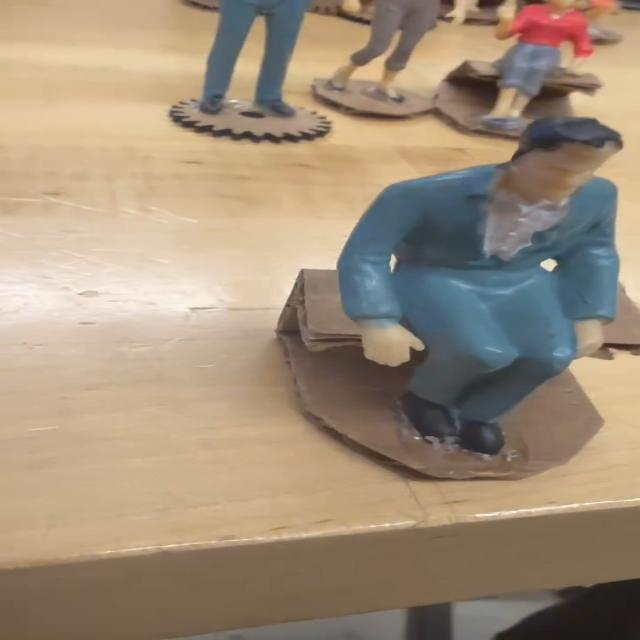Authorized: (313, 117, 640, 479)
